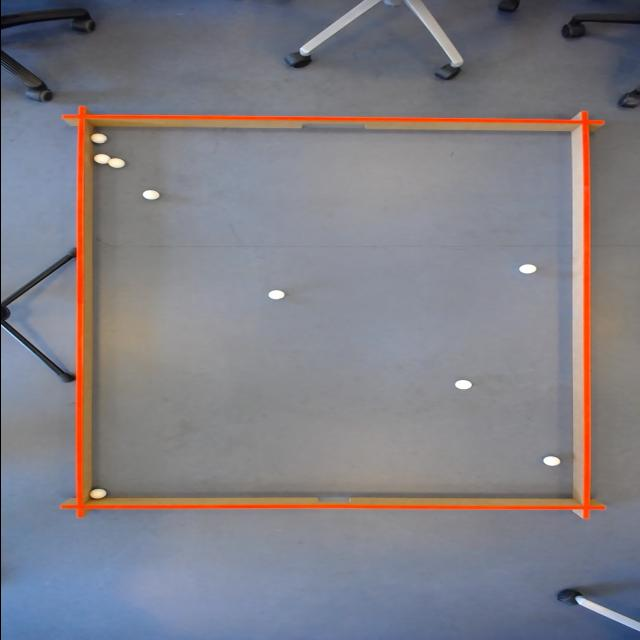white_ball: (86, 131, 110, 145), (515, 262, 539, 276), (85, 486, 109, 500), (137, 188, 163, 200), (540, 454, 564, 467), (451, 379, 474, 391), (264, 288, 286, 300), (105, 157, 126, 169), (91, 156, 111, 167)
